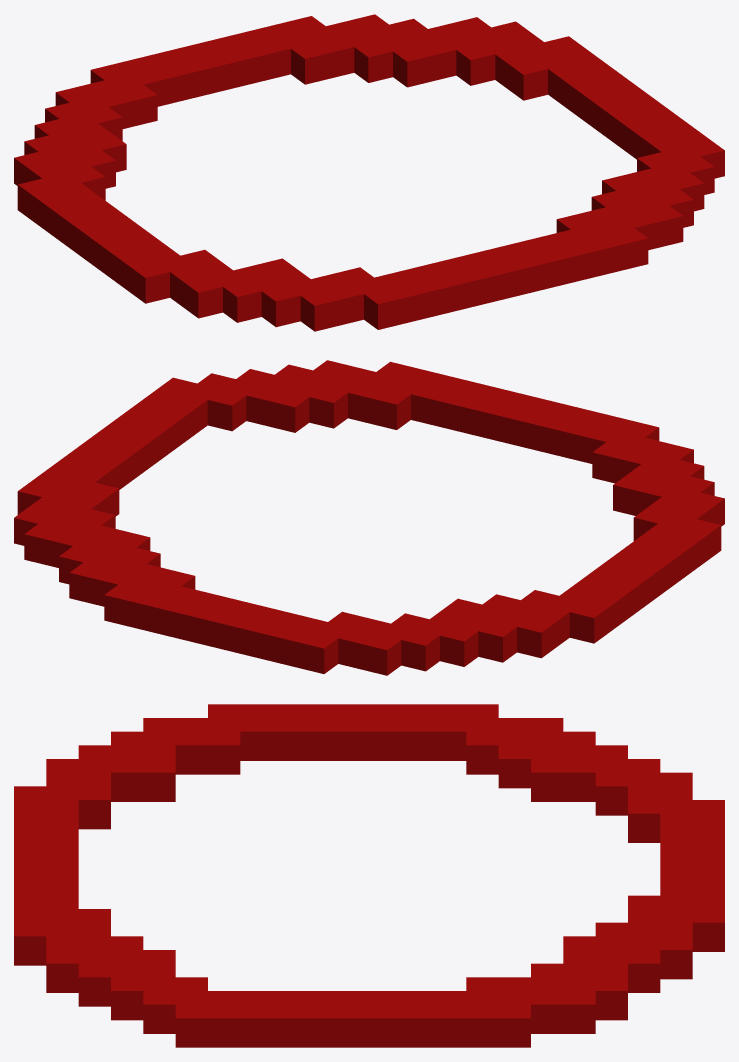
File: halp-1.obj
3 renders of one model, top to bottom at view 1: azimuth 30°, elevation 25°; view 2: azimuth 150°, elevation 25°; view 3: azimuth 270°, elevation 25°, orthographic. The views are drawn at different scales.
Size of the model in its own units: 2.3 by 0.1 by 2.2.
Materials: 1 (1 with a texture image).
